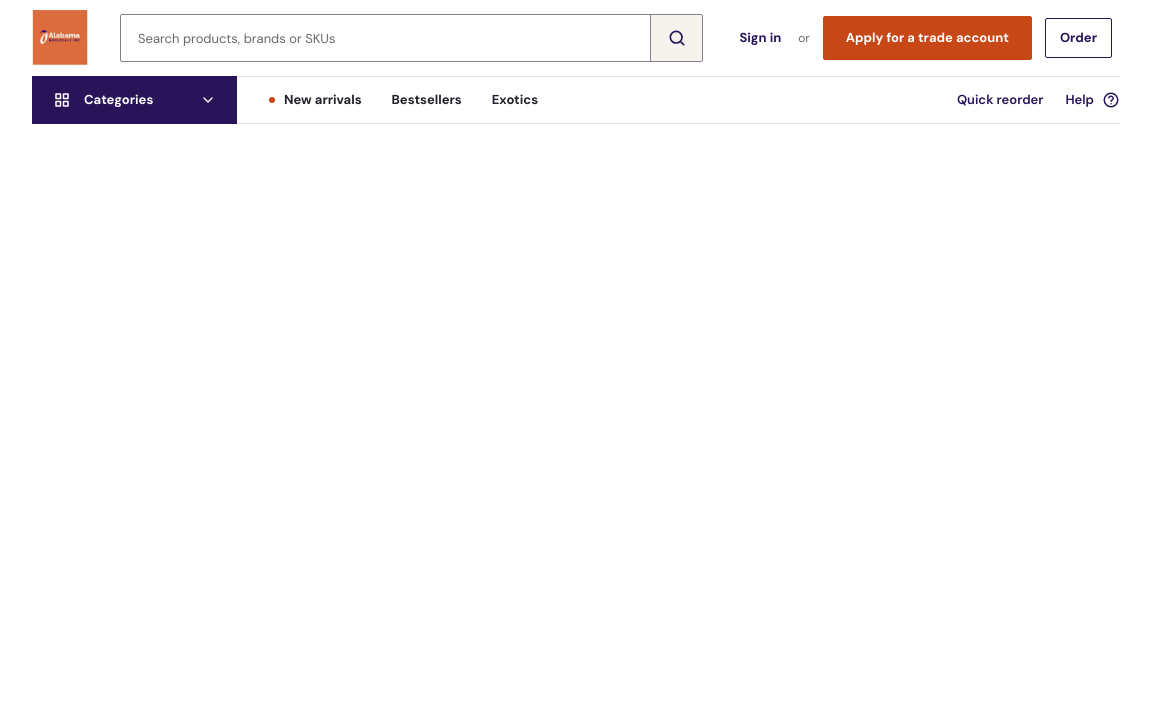
Scenario: Categories menu (AW-165) › points aria-controls at the menu only while it is open
The width and height of the screenshot is (1152, 720).
Click the button "Categories" at (134, 100), box x1=32 y1=76 x2=237 y2=124
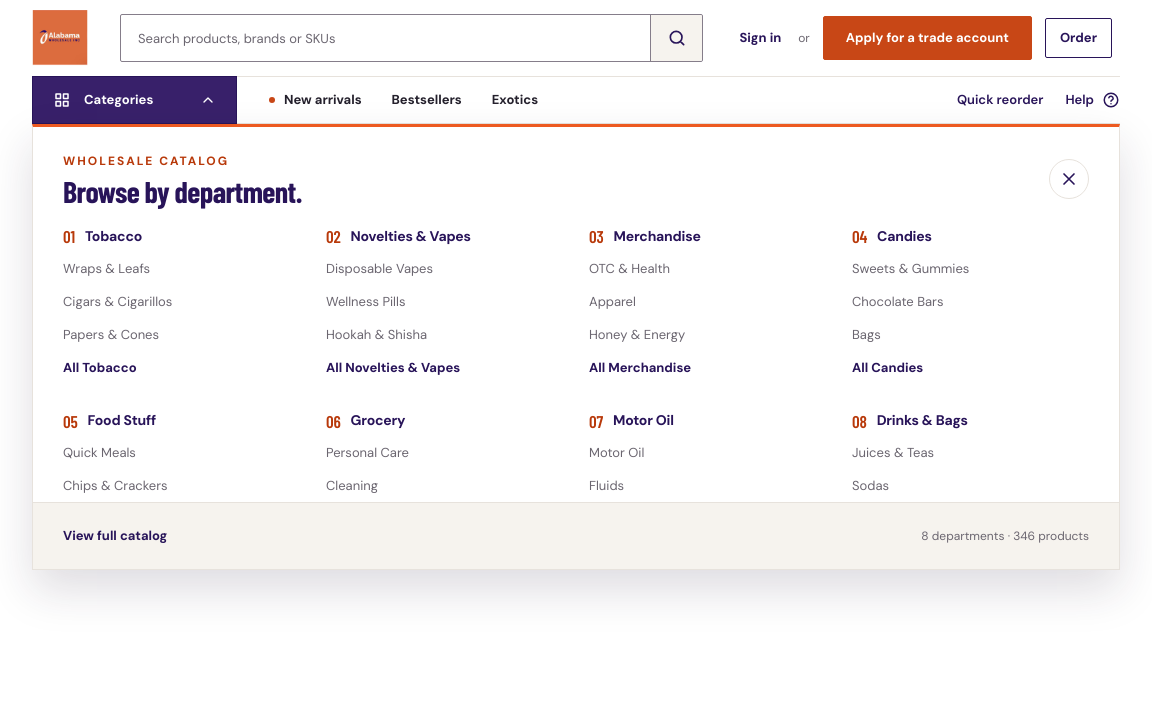
Expected: the element with id "aw-mega-menu" is shown, x1=32 y1=124 x2=1120 y2=570
